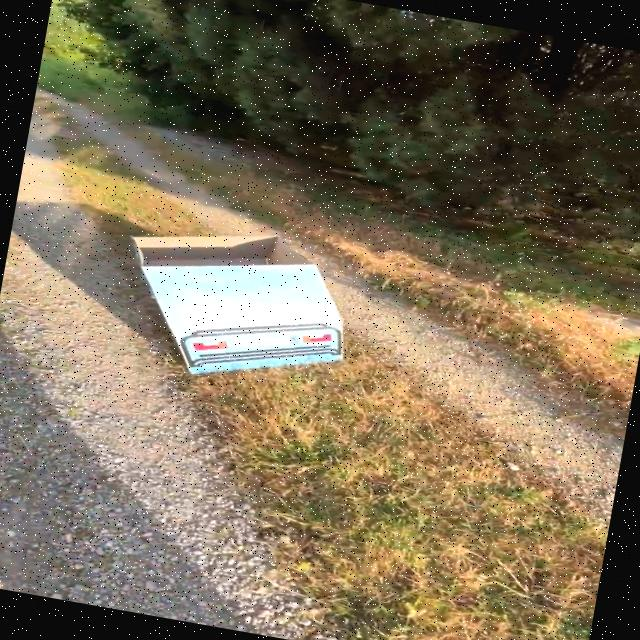blue_car: (92, 183, 422, 452)
